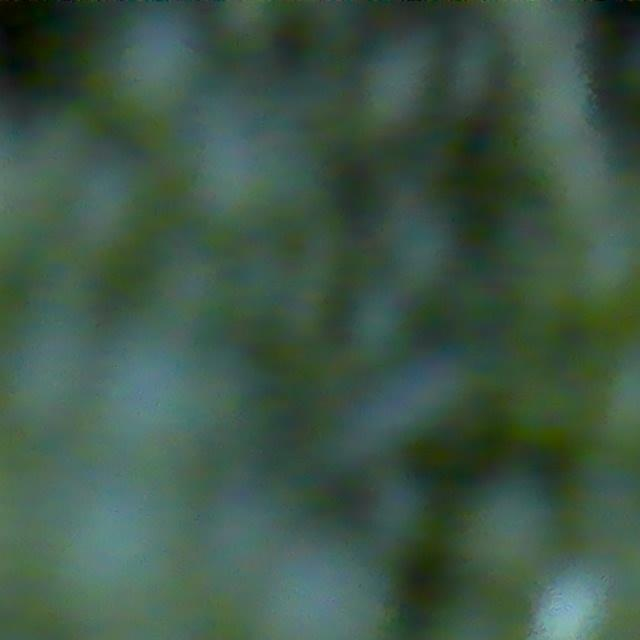SeaGrape: (78, 347, 249, 488), (48, 501, 203, 640), (242, 531, 381, 640), (103, 5, 208, 121), (454, 474, 559, 584), (356, 41, 439, 133), (566, 231, 640, 323), (524, 573, 614, 640), (443, 36, 506, 108), (211, 0, 288, 47)
